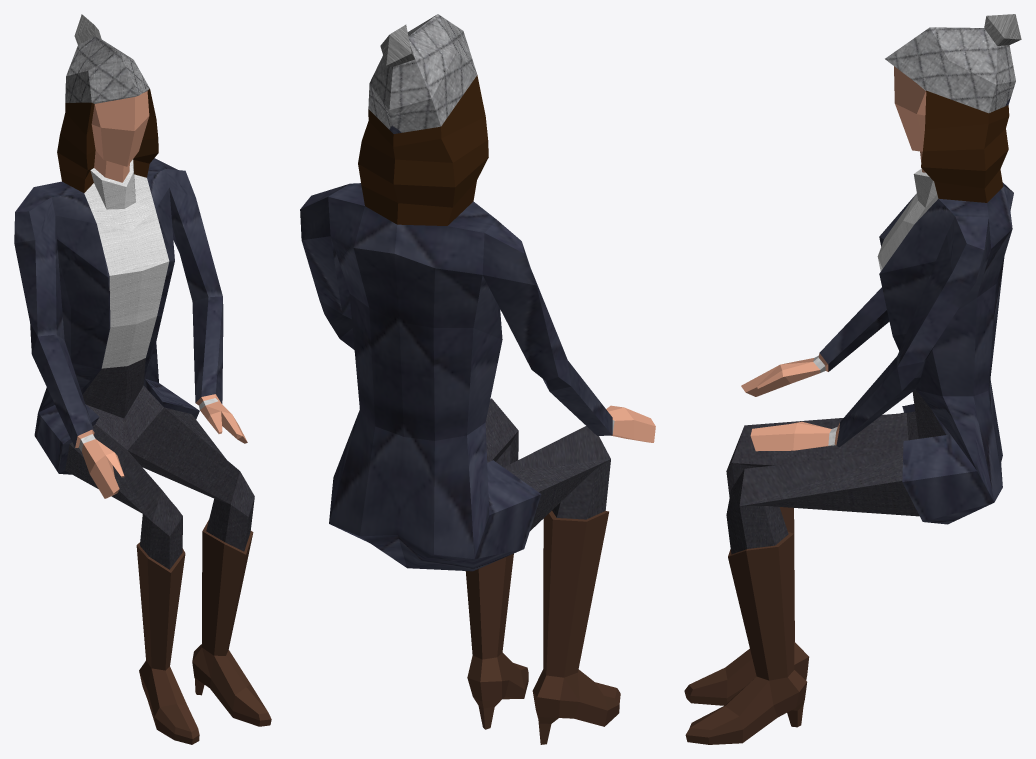
Rendered from AutumnWomanB.006.glb.
3 renders of one model, left to right at view 1: azimuth 30°, elevation 25°; view 2: azimuth 150°, elevation 25°; view 3: azimuth 270°, elevation 25°, orthographic. The views are drawn at different scales.
Parts seen in each view (by area): view 1: AutumnWomanB.006; view 2: AutumnWomanB.006; view 3: AutumnWomanB.006.
Part boxes in pixels (x1,y1,x2,y2): AutumnWomanB.006: [14, 14, 271, 744]; AutumnWomanB.006: [300, 14, 655, 744]; AutumnWomanB.006: [684, 14, 1021, 744].
Size of the model in its own units: 0.4475 by 1.38 by 0.6015.
Materials: 1 (1 with a texture image).
